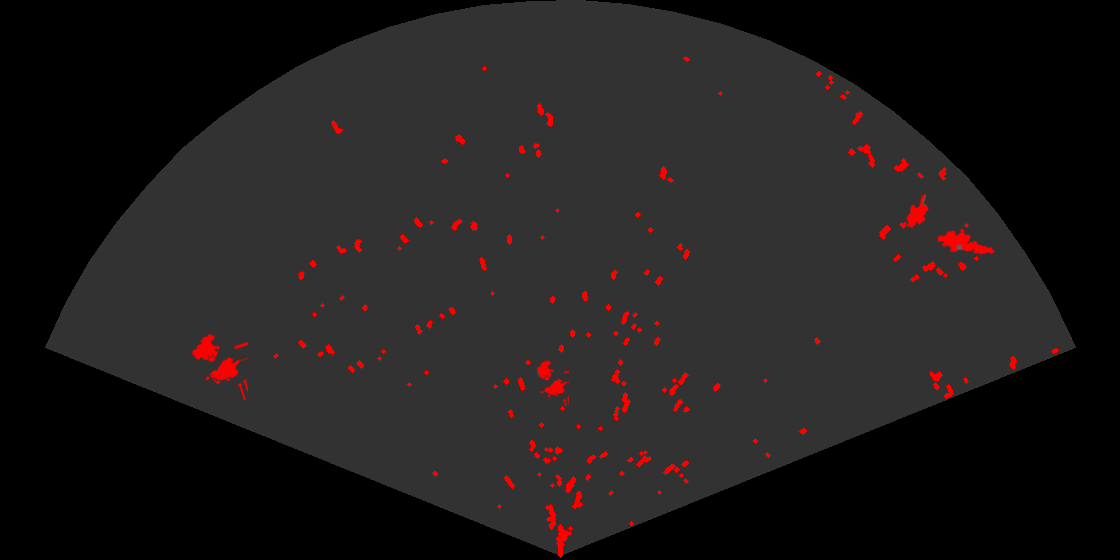AUV: (905, 192, 930, 230)
cage: (190, 332, 248, 400), (536, 358, 569, 406)
frogman: (938, 226, 996, 256)
